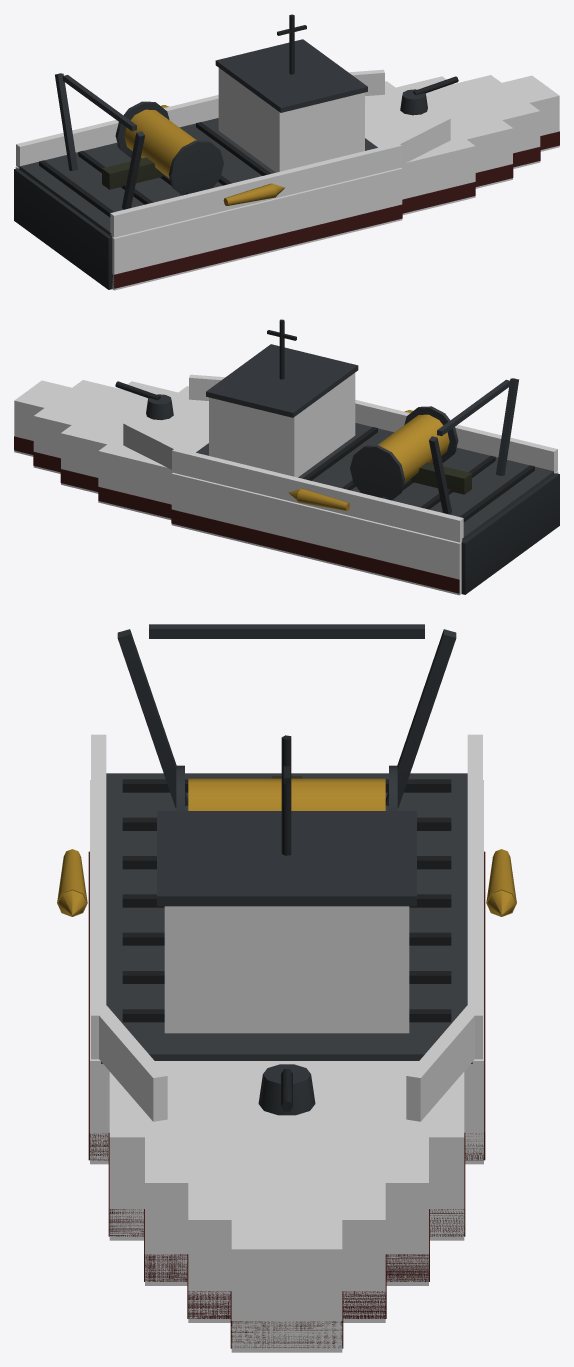
File: m_sweep_c992f199.glb
3 views of the same model, one above another, from view 1: azimuth 30°, elevation 25°; view 2: azimuth 150°, elevation 25°; view 3: azimuth 270°, elevation 25° (orthographic). The views are drawn at different scales.
Visible parts, largest first — view 1: mesh; view 2: mesh; view 3: mesh.
Boxes of the visible parts, bbox=[...] form: mesh: bbox=[14, 14, 559, 290]; mesh: bbox=[14, 319, 559, 595]; mesh: bbox=[57, 624, 516, 1352].
Size of the model in its own units: 51.1 by 18.5 by 21.
